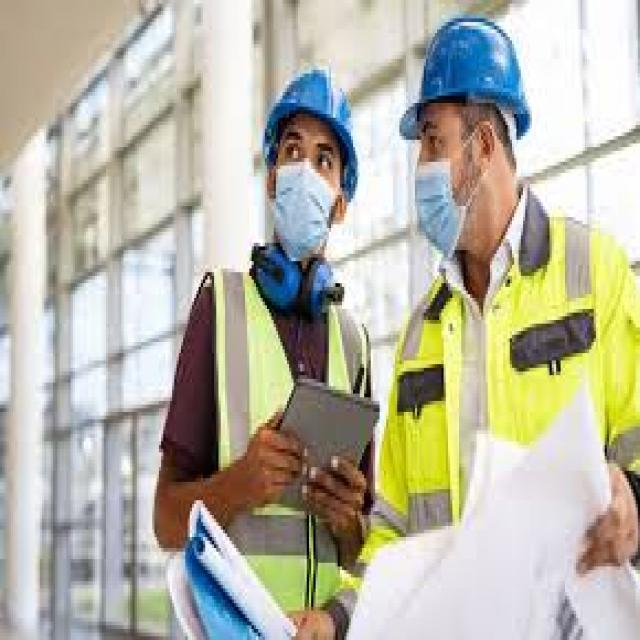Reflective-Jacket: (360, 217, 636, 629), (172, 257, 375, 640)
Safety-Helmet: (393, 7, 538, 147), (240, 55, 368, 202)
